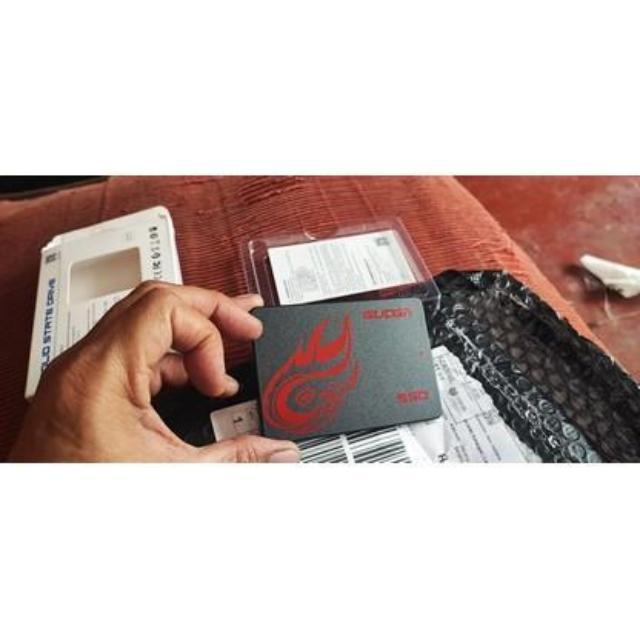DISK: (242, 300, 446, 445)
